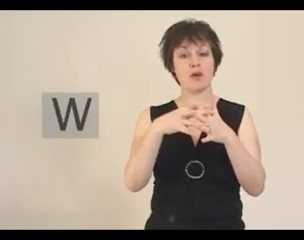W: (160, 96, 235, 147)
